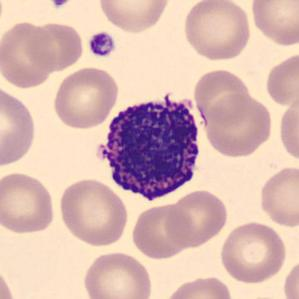Basophil: (90, 88, 208, 207)
Platelets: (86, 31, 118, 58), (48, 0, 73, 9)
RBC: (56, 175, 130, 248), (201, 91, 275, 159), (218, 219, 288, 285), (180, 0, 254, 62), (50, 65, 120, 130), (0, 18, 58, 90), (164, 187, 230, 249), (128, 201, 194, 260), (0, 169, 57, 236), (81, 249, 154, 299), (191, 67, 252, 125), (0, 80, 38, 171), (25, 19, 86, 73), (257, 163, 298, 229), (96, 0, 172, 35), (248, 0, 298, 48), (262, 50, 298, 108), (162, 274, 235, 299), (277, 93, 298, 166), (281, 257, 299, 299), (0, 264, 19, 299), (238, 295, 291, 299)
